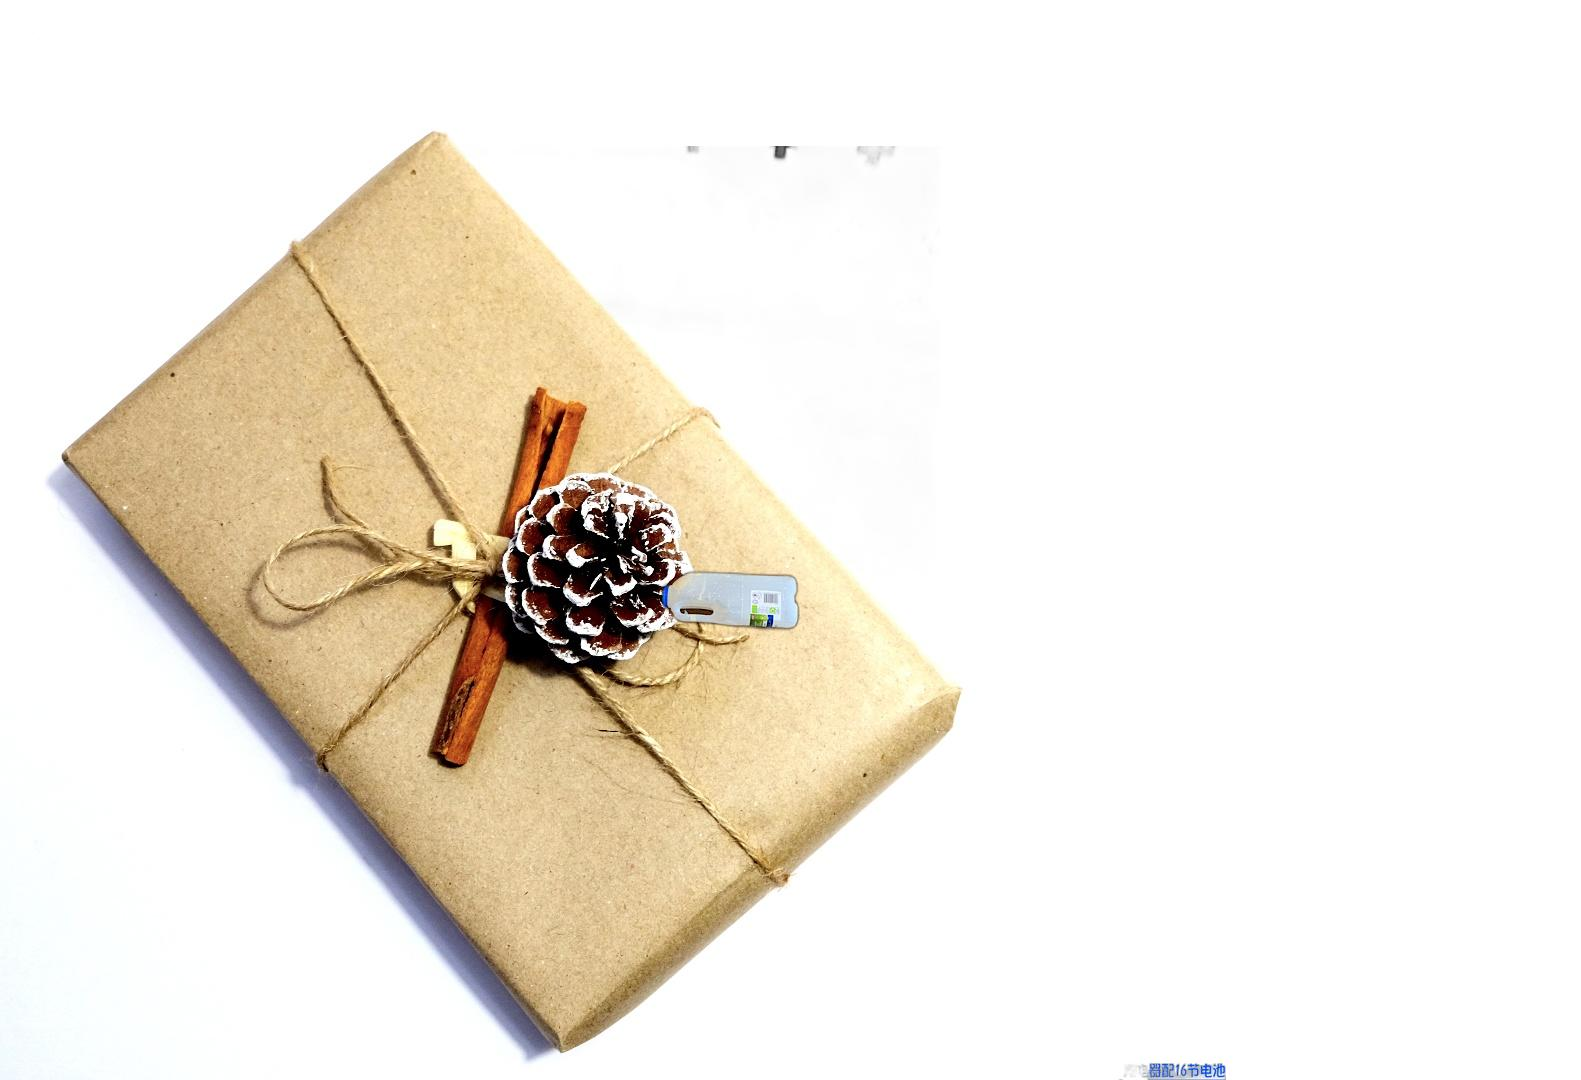battery: (1076, 1061, 1227, 1080)
plastic-bottles: (428, 147, 939, 636)
